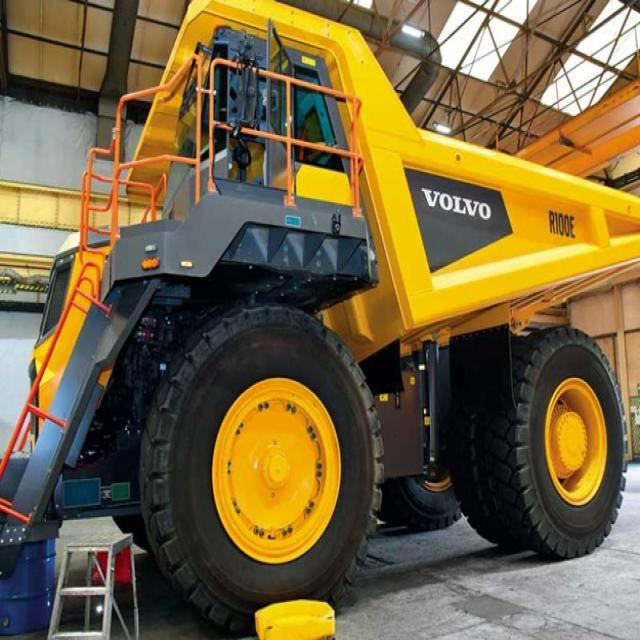dump_truck: (14, 3, 639, 614)
